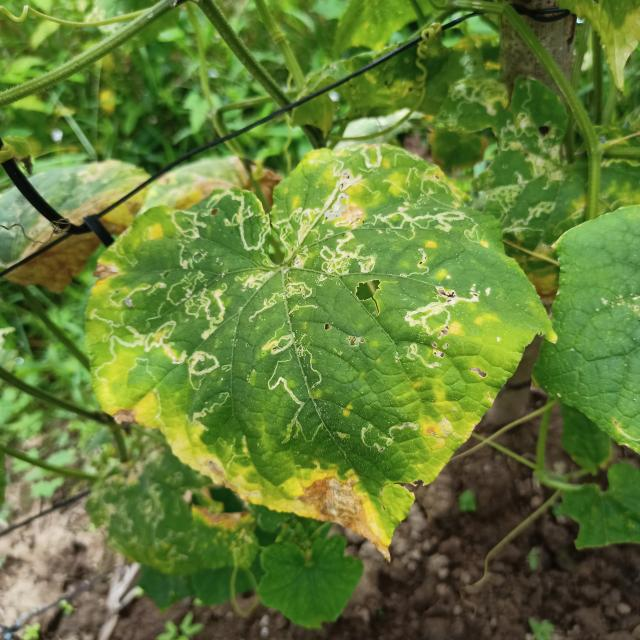disease_cucumber: (116, 394, 288, 516), (264, 444, 432, 563), (398, 314, 524, 457)
